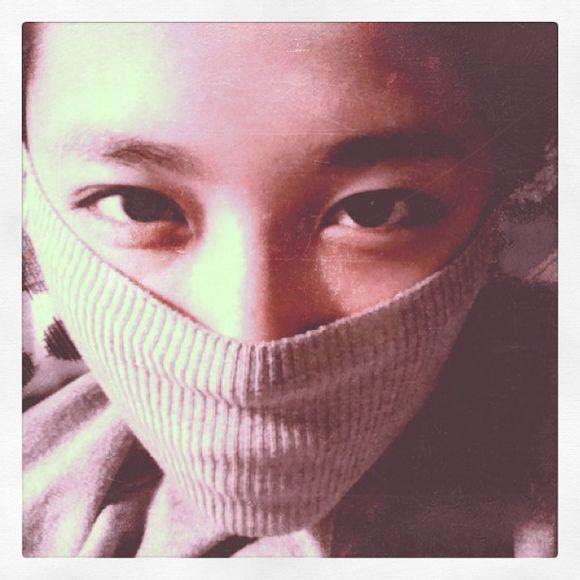WRONG: (33, 83, 479, 529)
